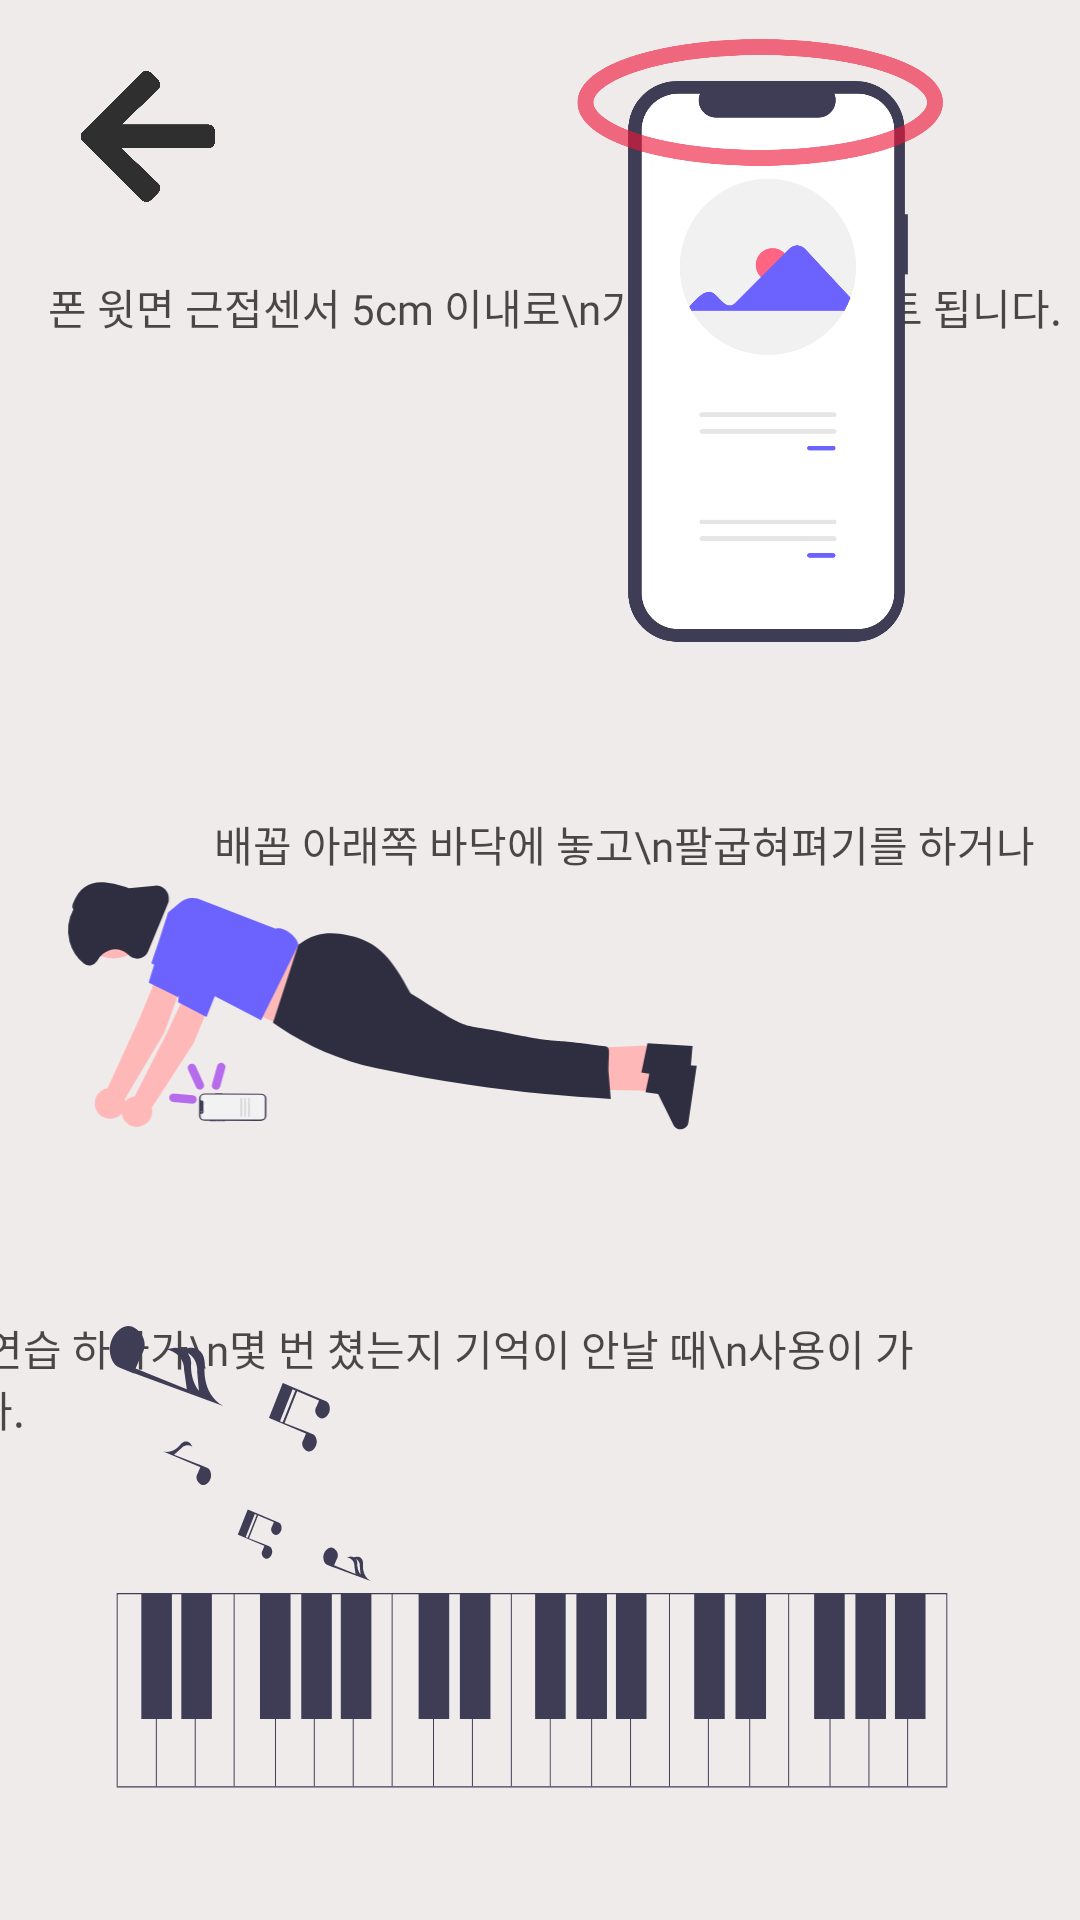

Point at icon controls on the screen. Image size 1080*1920, points as (x,y).
뒤로가기: (148,136)
